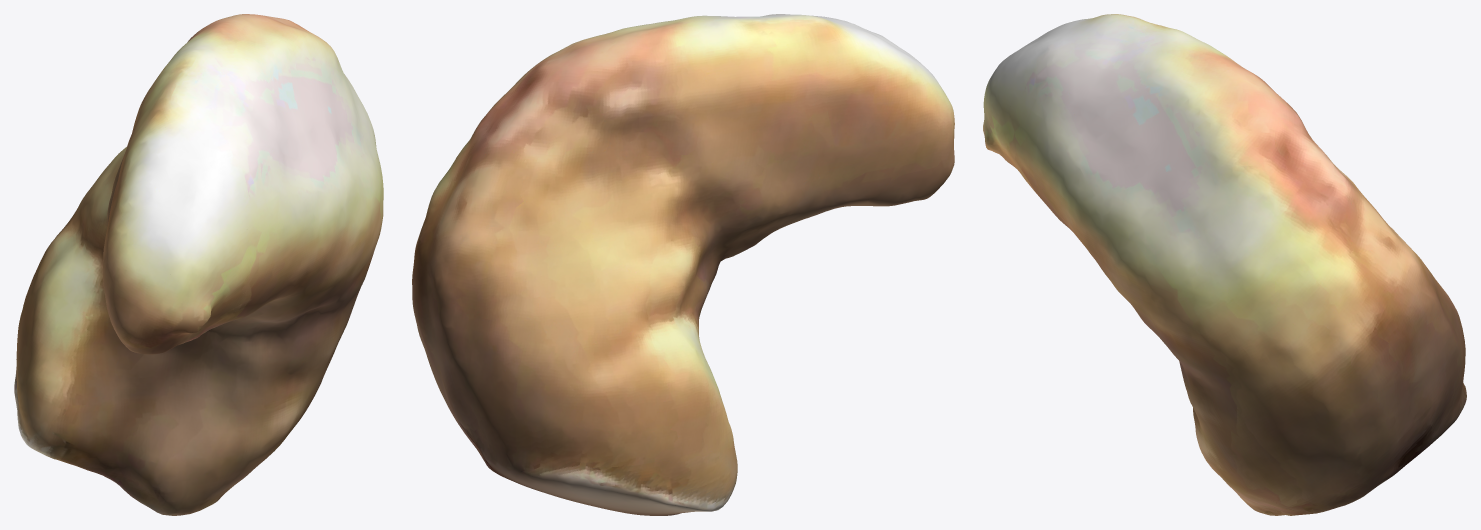
The model's file is Cashewkern.fbx.
3 views of the same model, side by side, from view 1: azimuth 30°, elevation 25°; view 2: azimuth 150°, elevation 25°; view 3: azimuth 270°, elevation 25° (orthographic). The views are drawn at different scales.
Parts seen in each view (by area): view 1: Cashewkern_tex; view 2: Cashewkern_tex; view 3: Cashewkern_tex.
Part boxes in pixels (x1,y1,x2,y2): Cashewkern_tex: [14, 14, 383, 515]; Cashewkern_tex: [412, 14, 954, 515]; Cashewkern_tex: [983, 14, 1466, 515].
Size of the model in its own units: 1.69 by 2.02 by 1.96.
1 material, 1 textured.
